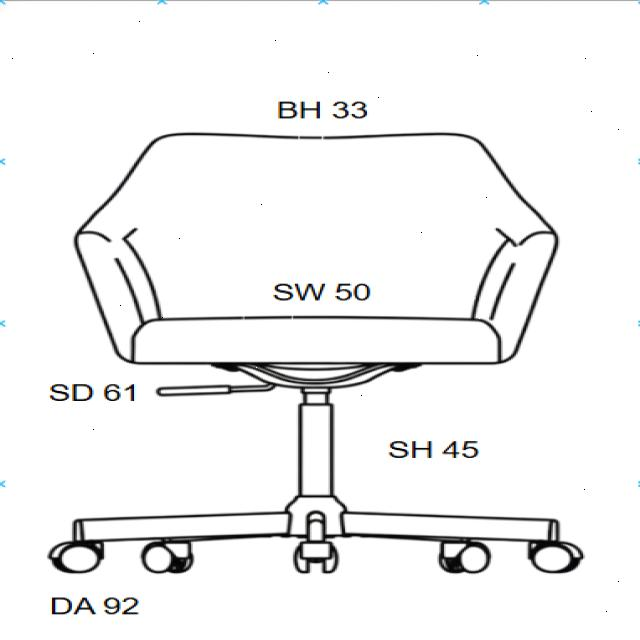5_Star_Base: (80, 496, 583, 572), (48, 531, 102, 574), (48, 542, 115, 571), (52, 543, 101, 574), (139, 542, 181, 576), (294, 540, 337, 573), (141, 542, 188, 571)
Armrest: (78, 216, 149, 361), (487, 217, 561, 354)
BH_Label: (276, 91, 380, 124)
Backrest: (105, 134, 532, 319)
Caster_Wheel: (437, 540, 493, 571), (143, 541, 197, 571), (53, 544, 106, 572), (532, 542, 576, 573)
Control_Mechanism: (160, 380, 270, 394)
DA_Label: (38, 588, 157, 628)
SD_Label: (39, 375, 152, 408)
SH_Label: (385, 434, 500, 464)
SW_Label: (259, 267, 378, 309)
Seat: (134, 316, 506, 362)
